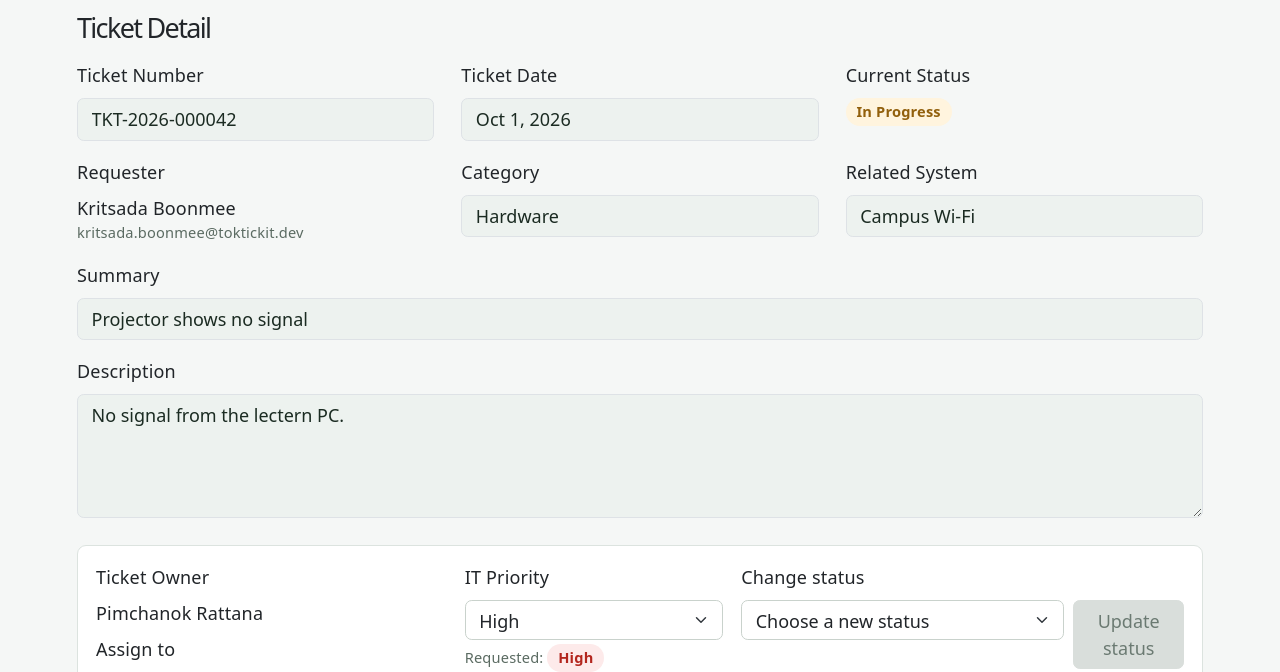
Test case: Ticket workflow on Staff Ticket Detail › status control and the resolution gate (UI-07, AC-20) › sends the version it was based on, then refreshes the status and the history
Expected: the field showing "TKT-2026-000042" is shown, [77,98,434,141]
Select "Resolved" in the dropdown labelled "Change status" at (903, 620), box [741,600,1064,640]
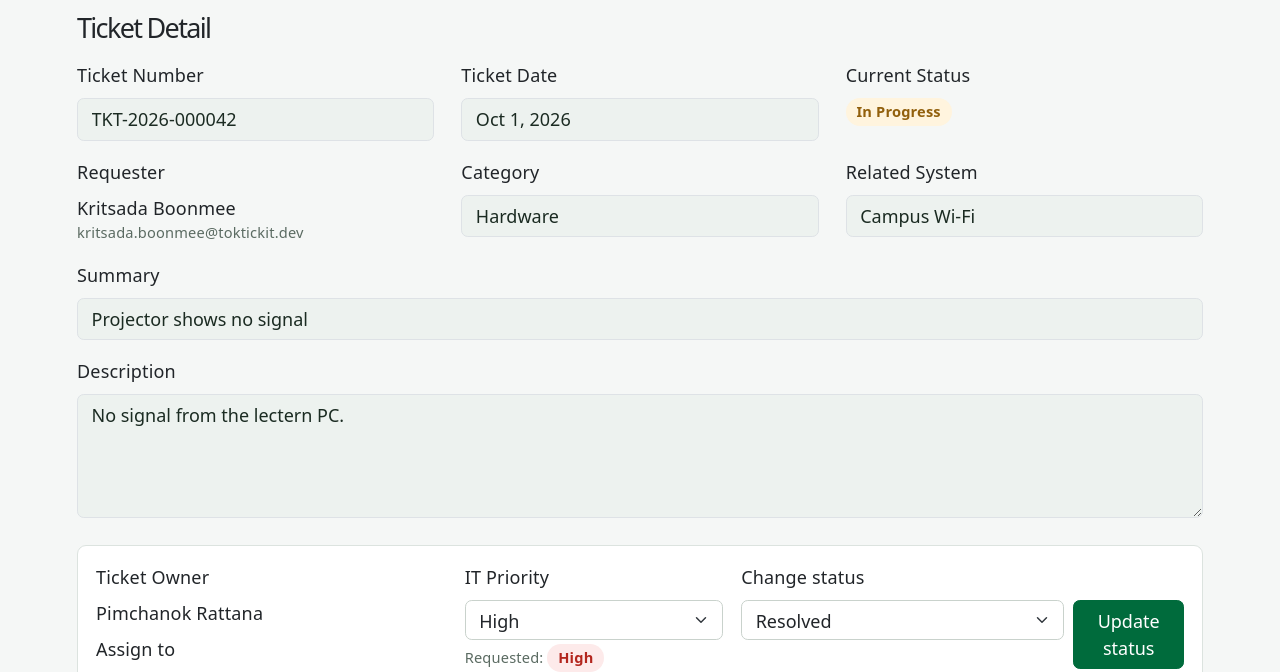
Click the button "Update status".
click(1129, 635)  # box [1073,600,1184,669]
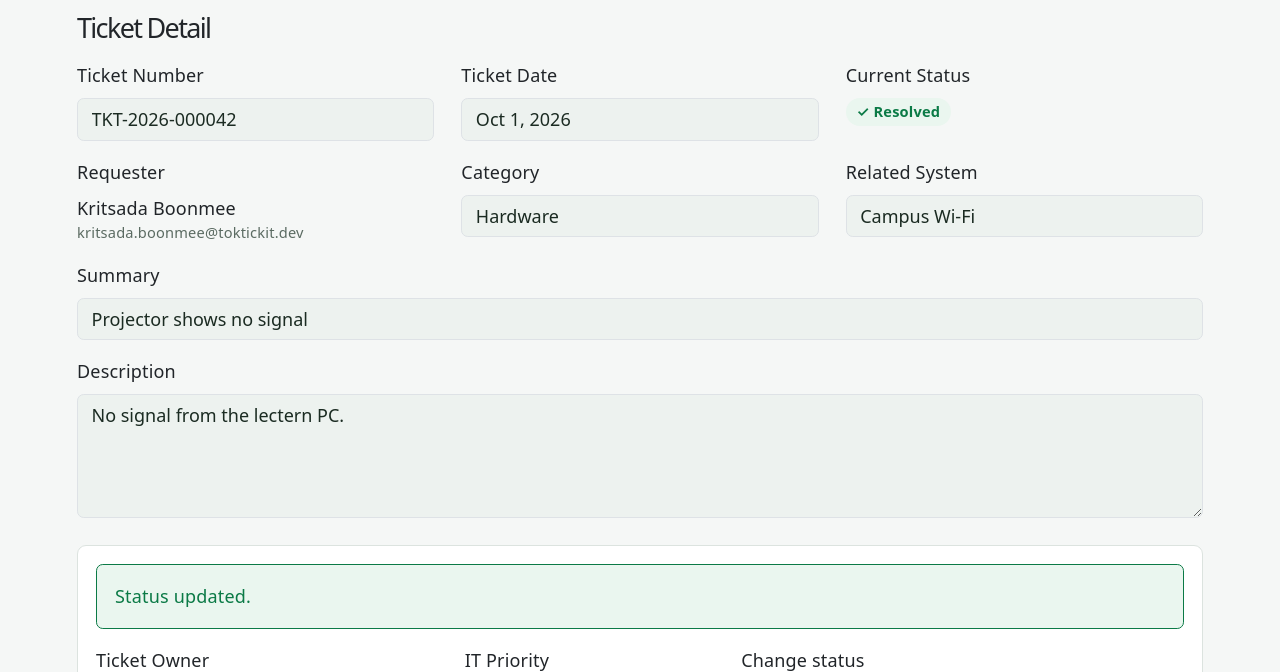
Expected: the text "Resolved" is shown, [846,98,951,126]
